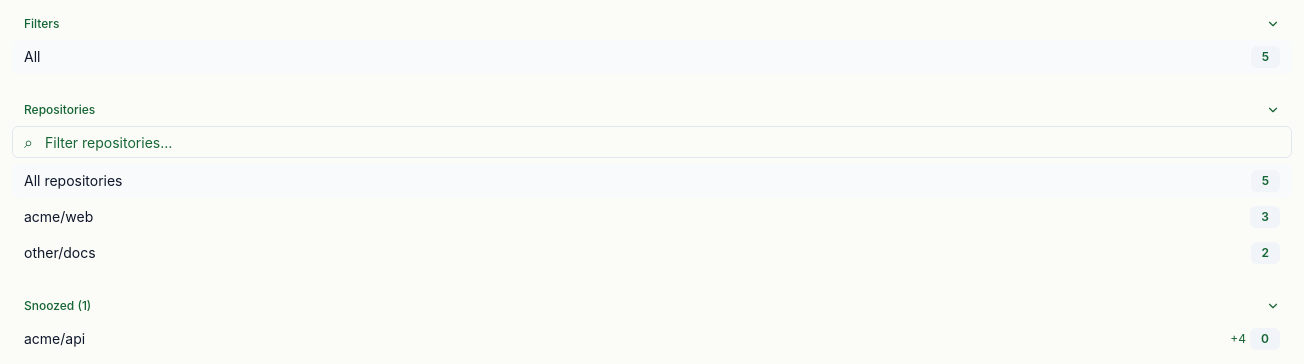
Test case: FilterSidebar repository search › Escape clears the filter
In the search field labelled "Filter repositories": (652, 142) [12,126,1292,158], type "web"
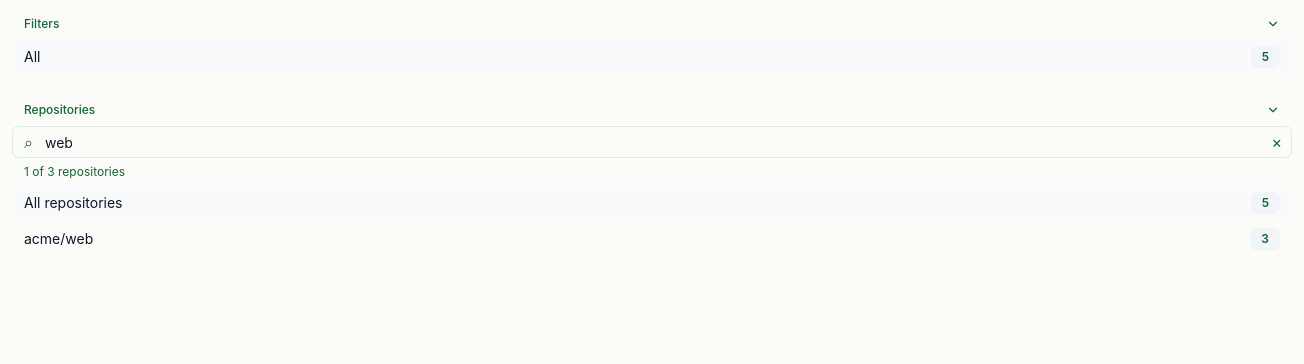
Press Escape in the search field named "Filter repositories", box [12,126,1292,158]
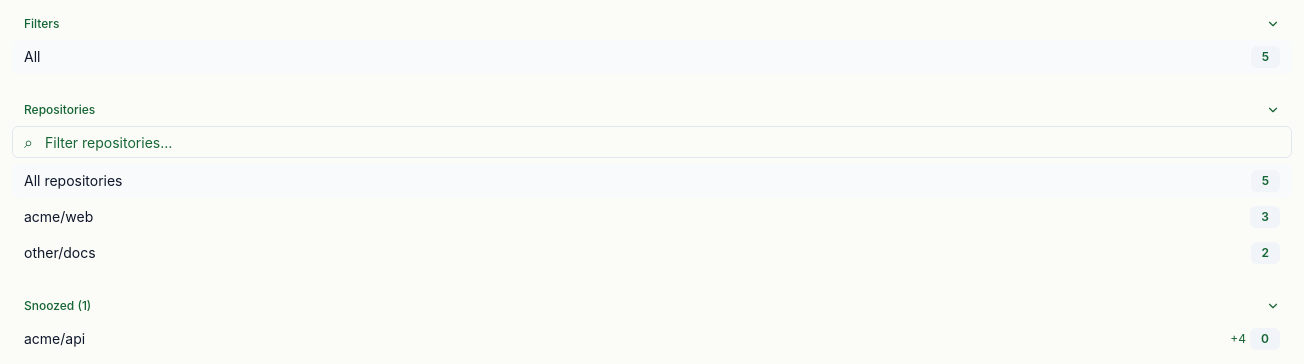
Check: the button with aria-label "Filter by other/docs" is shown, box [12,236,1292,270]
